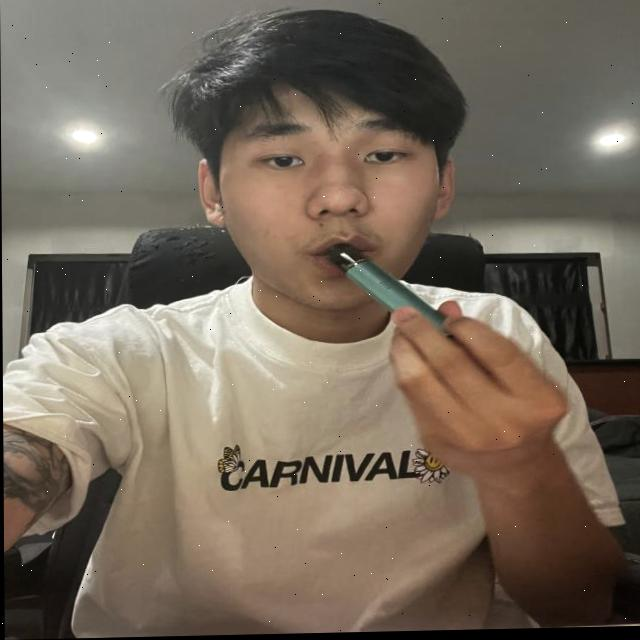vape: (326, 242, 451, 341)
